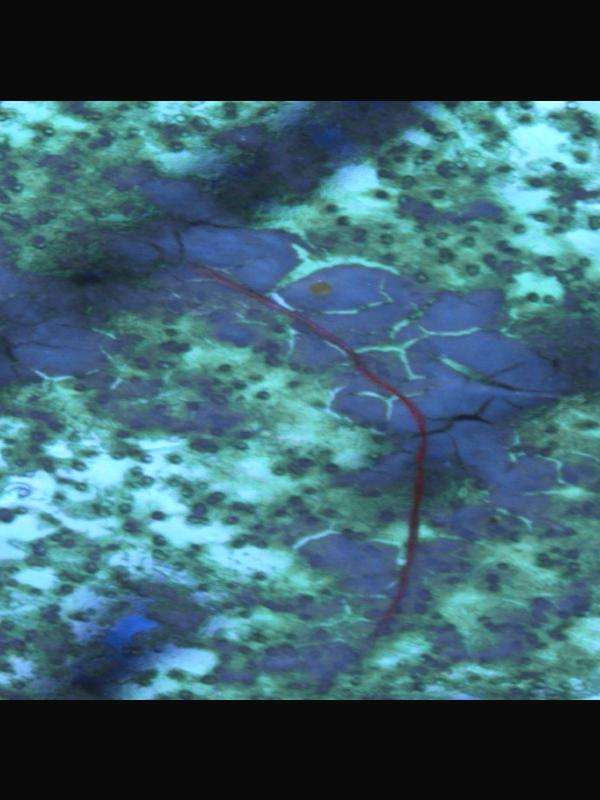microplastic: (187, 258, 435, 668)
